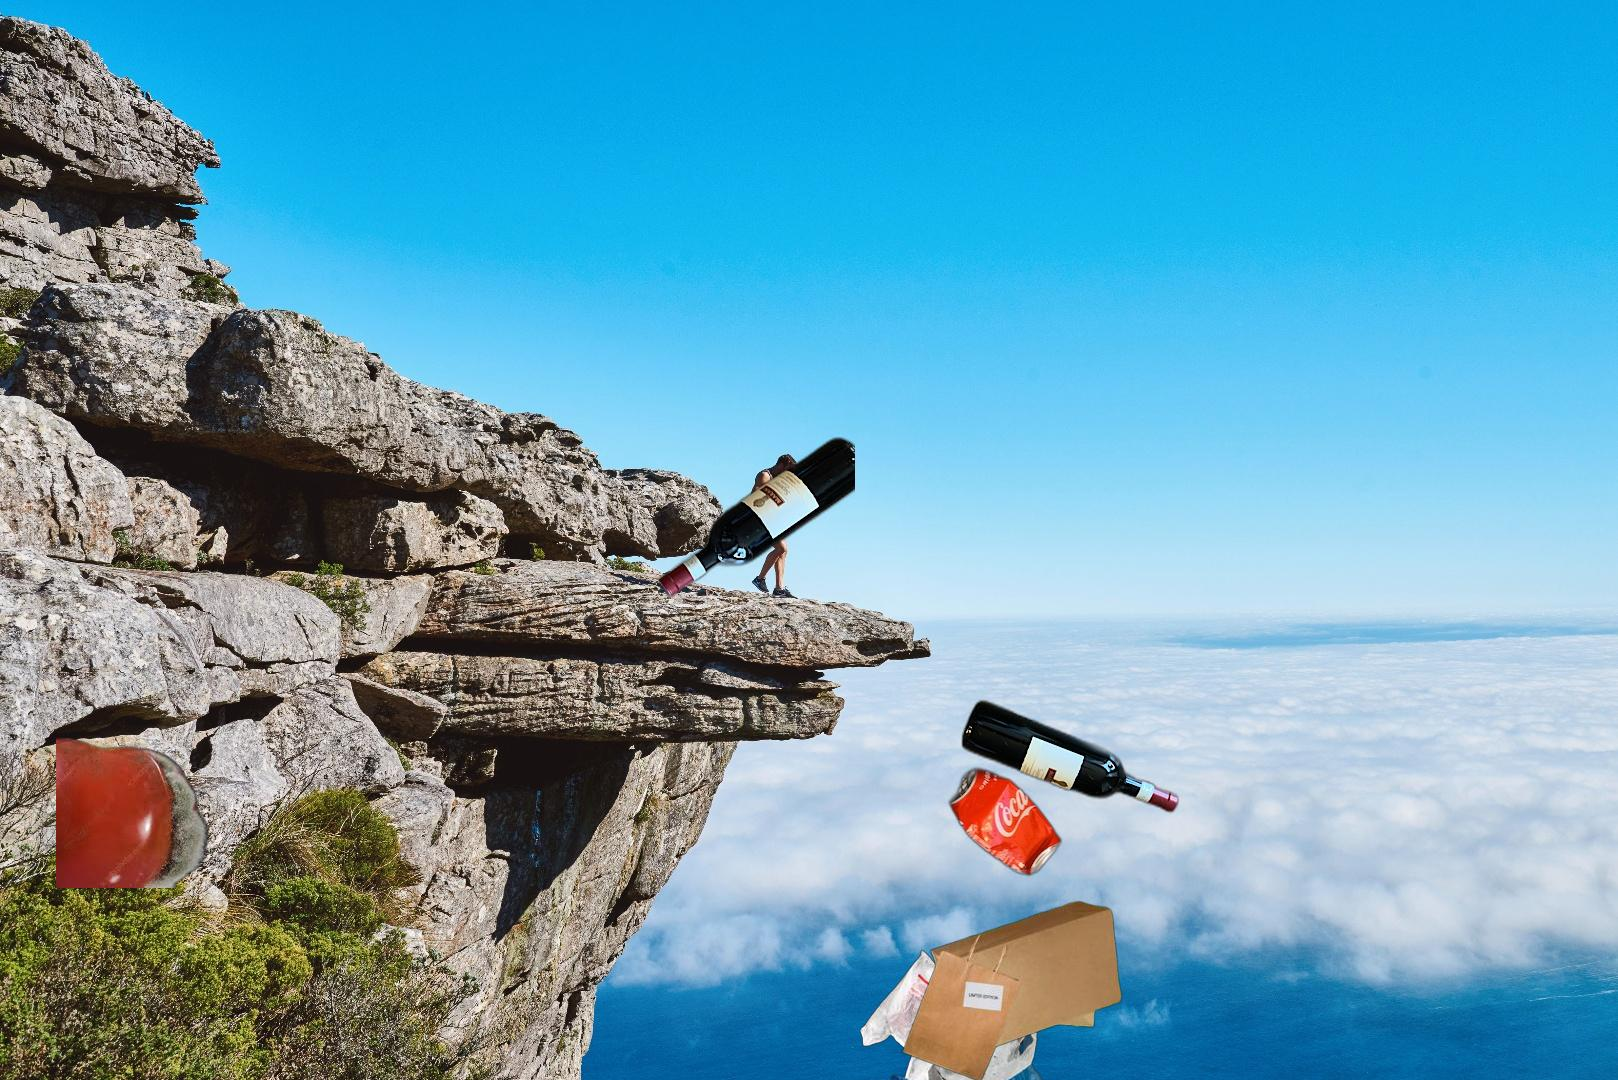biological: (55, 734, 212, 888)
glass: (655, 433, 855, 601), (957, 694, 1183, 818)
metal-cans: (945, 763, 1066, 882)
paper-bag: (899, 898, 1124, 1080)
plastic-bag: (857, 947, 1078, 1080)
plastic-bottles: (1326, 856, 1618, 1080)
